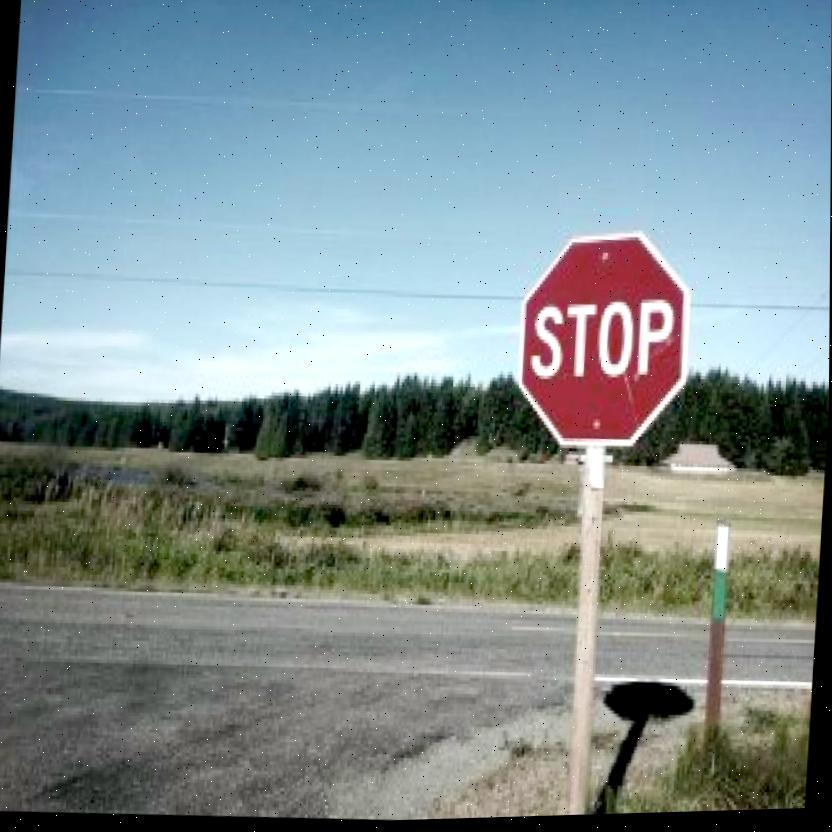Pole: (561, 455, 610, 819), (705, 530, 732, 763)
Sign: (512, 228, 693, 456)
